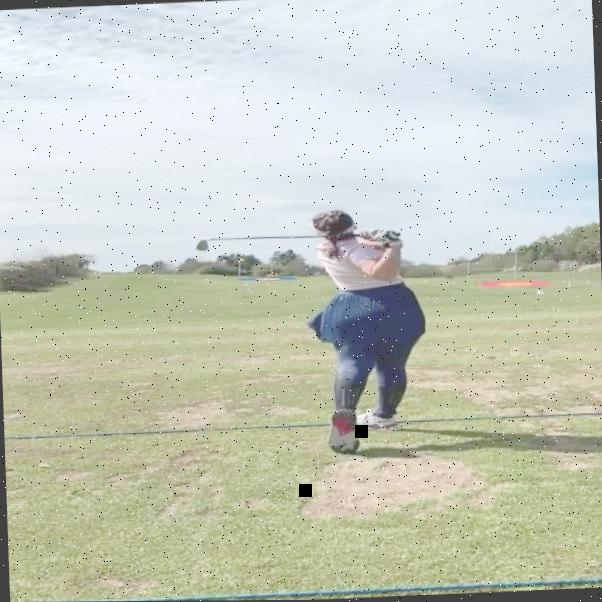ClubHead: (192, 239, 211, 253)
